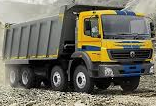truck: (1, 2, 155, 95)
